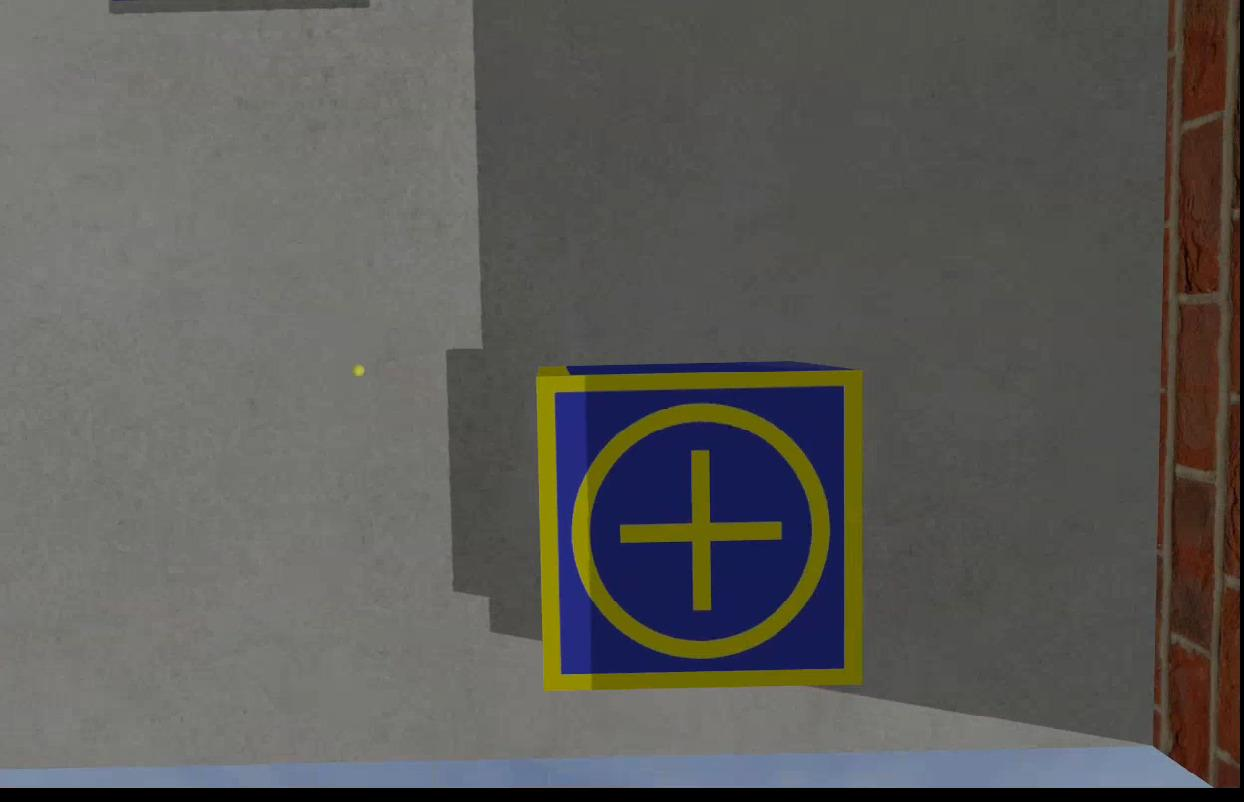small_base: (536, 370, 866, 692)
